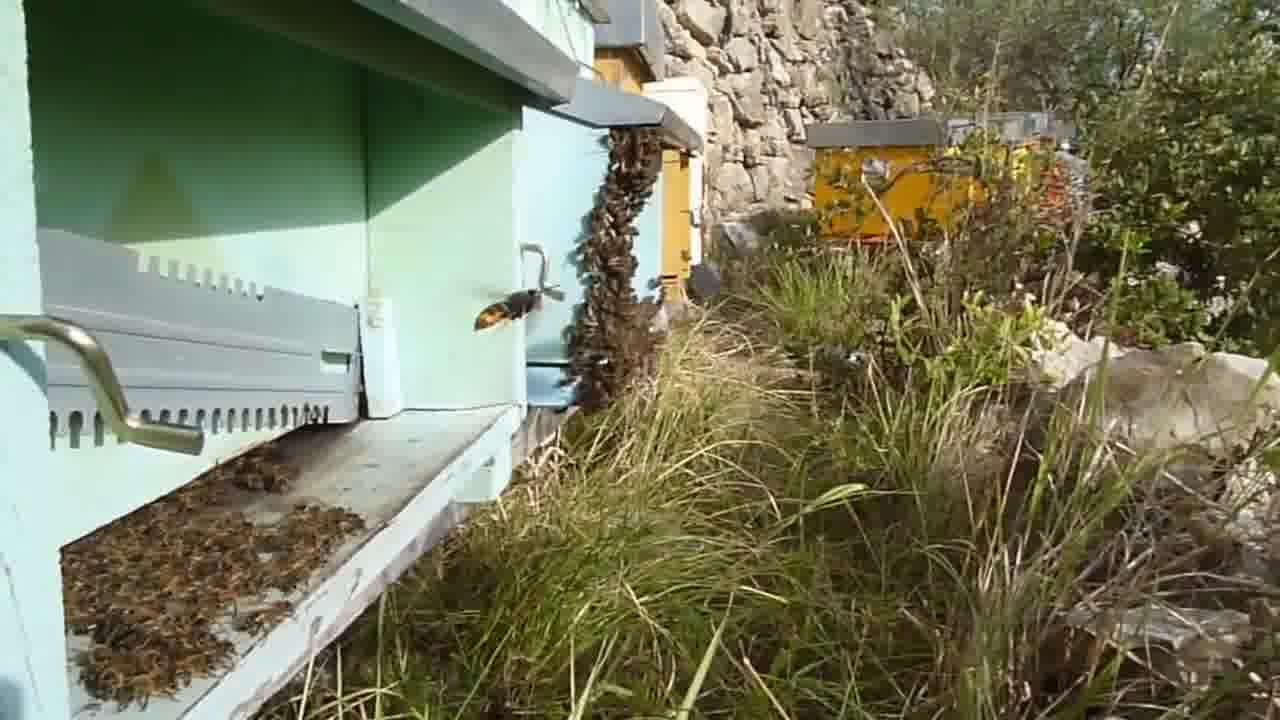bee: (78, 600, 254, 701), (70, 540, 299, 605), (130, 508, 286, 540), (583, 187, 651, 260), (596, 125, 665, 192), (282, 500, 368, 553), (575, 267, 643, 333), (228, 446, 295, 499)
hornet: (468, 284, 545, 339)
